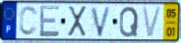C: (18, 5, 39, 37)
E: (39, 4, 61, 39)
Q: (118, 5, 140, 39)
V: (141, 6, 164, 40), (89, 5, 112, 38)
X: (67, 5, 88, 39)
